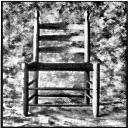chair_success: (11, 6, 112, 121)
